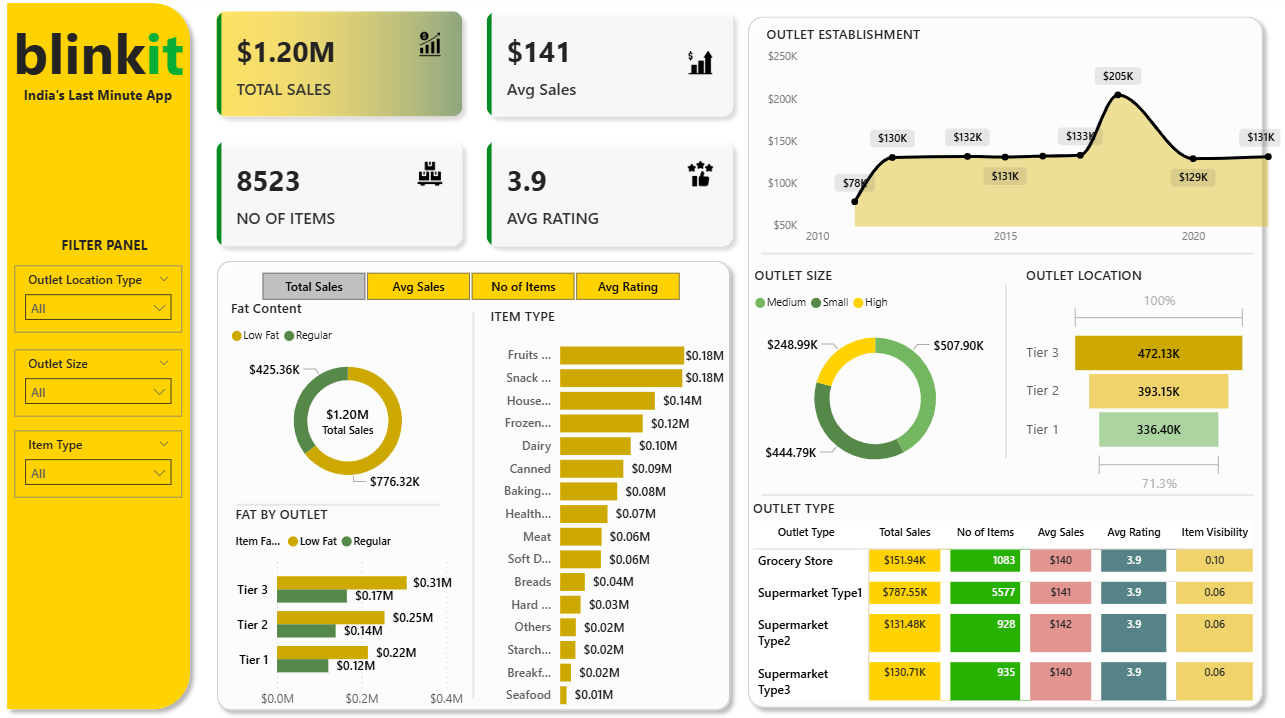

The page's visual inventory and layout, read from the dashboard file:
{"tool":"powerbi","page":{"name":"Page 1","canvas":[1280,720],"ordinal":0},"visuals":[{"type":"shape","box":[0,0,200,720.3],"z":0},{"type":"textbox","box":[0,13.6,200,86.4],"z":1000},{"type":"textbox","box":[16.9,84.7,166.1,30.5],"z":2000},{"type":"cardVisual","fields":{"Data":["BlinkIT Grocery Data.Total Sales","BlinkIT Grocery Data.Avg Sales","BlinkIT Grocery Data.No of Items","BlinkIT Grocery Data.Avg Rating"]},"box":[199.9,0,548.1,269.5],"z":3000},{"type":"shape","box":[209,255.9,528.5,464.9],"z":4000},{"type":"donutChart","title":"Fat Content","fields":{"Y":["BlinkIT Grocery Data.Total Sales"],"Category":["BlinkIT Grocery Data.Item Fat Content"]},"box":[227.1,302.8,242.3,198.4],"z":5000},{"type":"slicer","fields":{"Values":["Metrics.Metrics"]},"box":[237.3,269.5,464.4,40.7],"z":6000},{"type":"cardVisual","fields":{"Data":["BlinkIT Grocery Data.Total Sales"]},"box":[296.8,390.7,103,57.5],"z":7000},{"type":"clusteredBarChart","title":"FAT BY OUTLET","fields":{"Y":["BlinkIT Grocery Data.Total Sales"],"Category":["BlinkIT Grocery Data.Outlet Location Type"],"Series":["BlinkIT Grocery Data.Item Fat Content"]},"box":[231.7,507.3,242.3,212],"z":8000},{"type":"shape","box":[237.3,501.7,201.7,13.6],"z":9000},{"type":"shape","box":[461,316.9,23.7,384.7],"z":10000},{"type":"barChart","title":"ITEM TYPE","fields":{"Y":["BlinkIT Grocery Data.Total Sales"],"Category":["BlinkIT Grocery Data.Item Type"]},"box":[484.5,310.4,242.3,410.3],"z":11000},{"type":"shape","box":[737.4,13.6,530,705.6],"z":12000},{"type":"lineChart","title":"OUTLET ESTABLISHMENT","fields":{"Category":["BlinkIT Grocery Data.Outlet Establishment Year"],"Y":["BlinkIT Grocery Data.Total Sales"]},"box":[758.6,30.3,520.9,228.6],"z":13000},{"type":"shape","box":[758.6,248.3,489.1,21.2],"z":14000},{"type":"donutChart","title":"OUTLET SIZE","fields":{"Y":["BlinkIT Grocery Data.Total Sales"],"Category":["BlinkIT Grocery Data.Outlet Size"]},"box":[748,269.5,249.8,219.6],"z":15000},{"type":"shape","box":[996.3,289.2,12.1,172.6],"z":16000},{"type":"funnel","title":"OUTLET LOCATION","fields":{"Y":["Sum(BlinkIT Grocery Data.Sales)"],"Category":["BlinkIT Grocery Data.Outlet Location Type"]},"box":[1017.5,269.5,230.2,231.7],"z":17000},{"type":"shape","box":[758.6,487.6,489.1,21.2],"z":18000},{"type":"pivotTable","title":"OUTLET TYPE","fields":{"Values":["BlinkIT Grocery Data.Total Sales","BlinkIT Grocery Data.No of Items","BlinkIT Grocery Data.Avg Sales","BlinkIT Grocery Data.Avg Rating","Avg(BlinkIT Grocery Data.Item Visibility)"],"Rows":["BlinkIT Grocery Data.Outlet Type"]},"box":[746.5,501.2,513.3,218],"z":19000},{"type":"slicer","fields":{"Values":["BlinkIT Grocery Data.Outlet Location Type"]},"box":[16.7,269.5,166.6,66.6],"z":19001},{"type":"slicer","fields":{"Values":["BlinkIT Grocery Data.Outlet Size"]},"box":[16.7,352.8,166.6,66.6],"z":19002},{"type":"slicer","fields":{"Values":["BlinkIT Grocery Data.Item Type"]},"box":[16.7,434.6,166.6,66.6],"z":19003},{"type":"textbox","box":[57.5,234.7,125.7,34.8],"z":19004}]}

Visuals, with their boxes in screenshot pixels (x1, y1, x2, y2), scaled from the page's 1280x720 canvas onto the 1285x718 screenshot:
shape: 0,0,201,717
textbox: 0,14,201,100
textbox: 17,84,184,115
cardVisual - BlinkIT Grocery Data.Total Sales x BlinkIT Grocery Data.Avg Sales: 201,0,751,269
shape: 210,255,740,717
"Fat Content" donutChart: 228,302,471,500
slicer - Metrics.Metrics: 238,269,704,309
cardVisual - BlinkIT Grocery Data.Total Sales: 298,390,401,447
"FAT BY OUTLET" clusteredBarChart: 233,506,476,717
shape: 238,500,441,514
shape: 463,316,487,700
"ITEM TYPE" barChart: 486,310,730,717
shape: 740,14,1272,717
"OUTLET ESTABLISHMENT" lineChart: 762,30,1284,258
shape: 762,248,1253,269
"OUTLET SIZE" donutChart: 751,269,1002,488
shape: 1000,288,1012,461
"OUTLET LOCATION" funnel: 1021,269,1253,500
shape: 762,486,1253,507
"OUTLET TYPE" pivotTable: 749,500,1265,717
slicer - BlinkIT Grocery Data.Outlet Location Type: 17,269,184,335
slicer - BlinkIT Grocery Data.Outlet Size: 17,352,184,418
slicer - BlinkIT Grocery Data.Item Type: 17,433,184,500
textbox: 58,234,184,269
